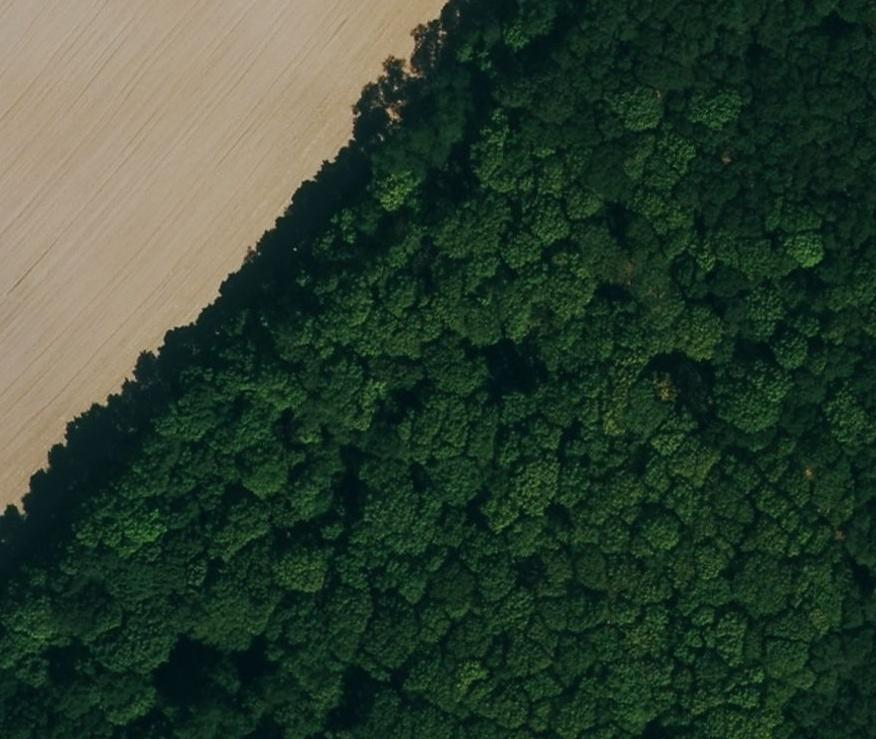field: (0, 0, 441, 511)
forest: (0, 2, 876, 737)
